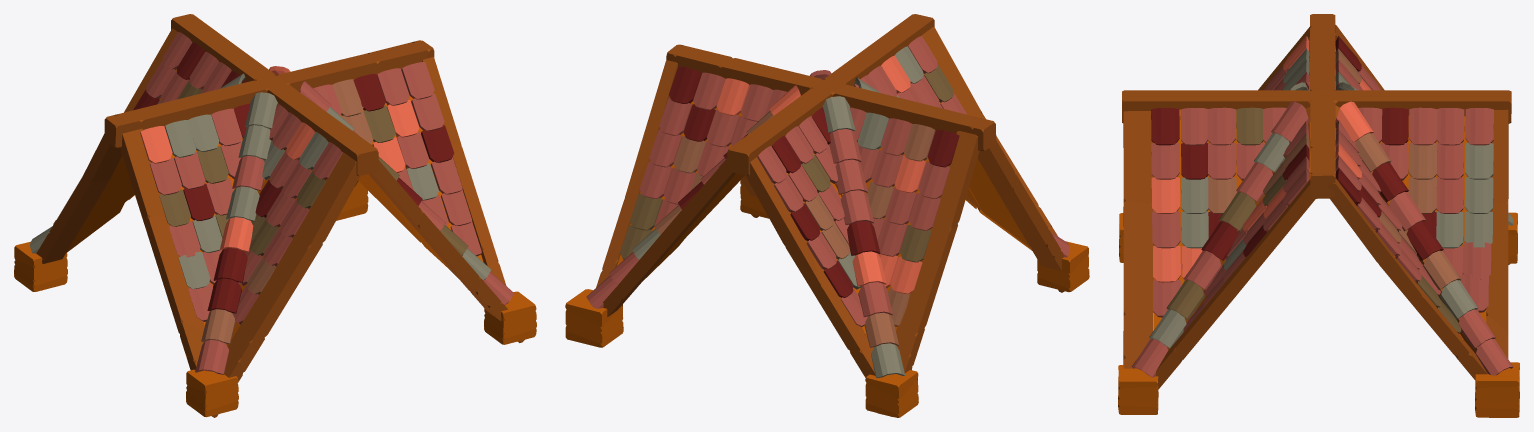
Rendered from NormalRoofCrossJunction.fbx.
The picture shows the model from 3 angles, left to right: view 1: azimuth 30°, elevation 25°; view 2: azimuth 150°, elevation 25°; view 3: azimuth 270°, elevation 25°; orthographic projection. The views are drawn at different scales.
Visible parts, largest first — view 1: NormalRoofCrossJunction_LOD0; view 2: NormalRoofCrossJunction_LOD0; view 3: NormalRoofCrossJunction_LOD0.
Boxes of the visible parts, x1,y1,x2,y2 form: NormalRoofCrossJunction_LOD0: (14, 14, 536, 417); NormalRoofCrossJunction_LOD0: (565, 14, 1089, 417); NormalRoofCrossJunction_LOD0: (1118, 14, 1519, 417).
Size of what is drawn, in the model's own units: 2177 by 1452 by 2173.
